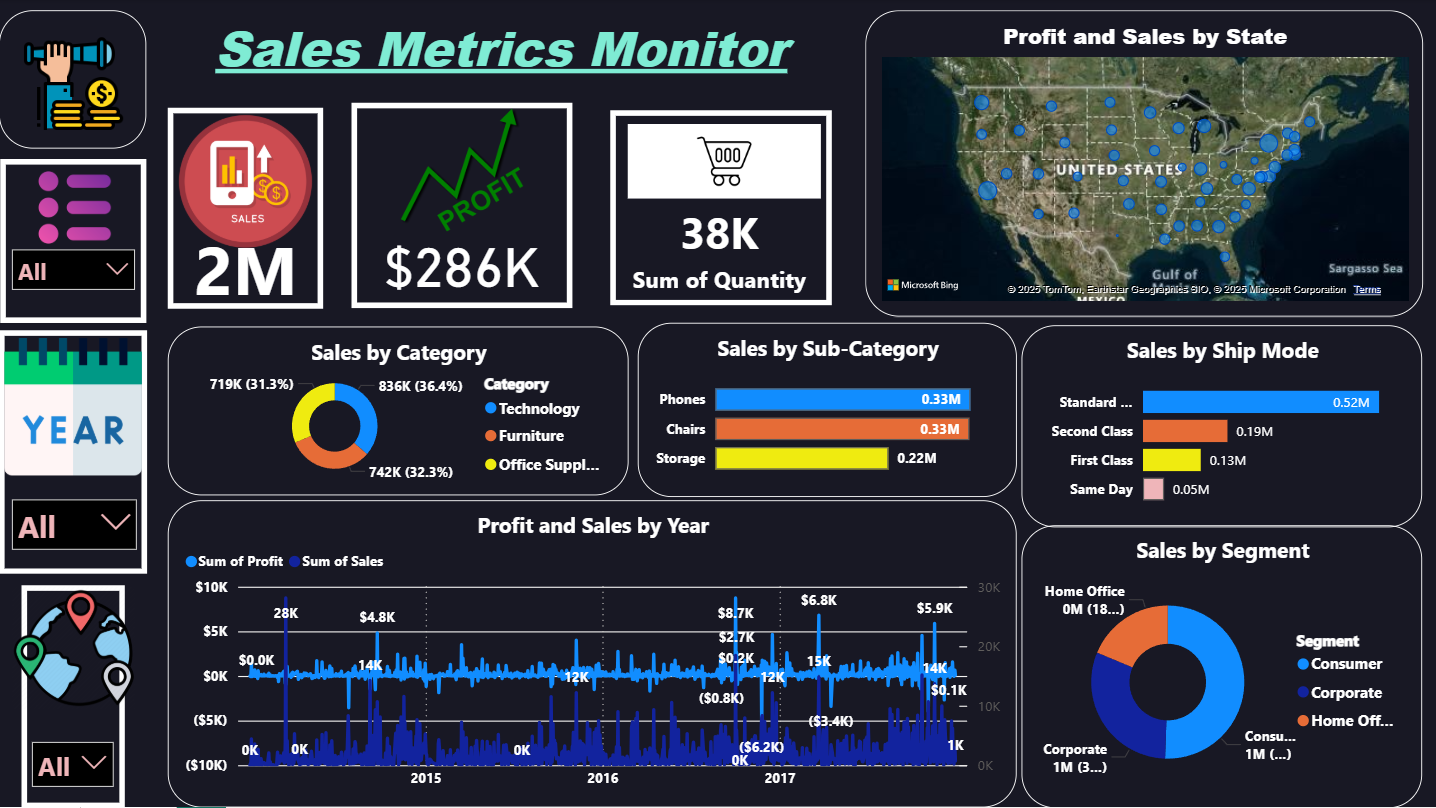

This screenshot's page, from the dashboard's own definition file:
{"tool":"powerbi","page":{"name":"Page 1","canvas":[1280,720],"ordinal":0},"visuals":[{"type":"textbox","box":[132.7,7.2,629.8,79.6],"z":0},{"type":"shape","box":[314.7,92.9,196.7,182.9],"z":0,"group":"g5"},{"type":"shape","box":[150,96.7,138.4,179],"z":0,"group":"g4"},{"type":"shape","box":[544.5,98.8,197.3,173.9],"z":0,"group":"g6"},{"type":"shape","box":[1.4,143.2,130.1,146],"z":0,"group":"g1"},{"type":"shape","box":[0,295.7,131.9,217.1],"z":0,"group":"g2"},{"type":"shape","box":[20.4,521.5,92.1,198.6],"z":0,"group":"g3"},{"type":"image","box":[150,87.1,138.4,151.7],"z":1000,"group":"g4"},{"type":"image","box":[314.7,92.9,196.7,119.2],"z":1000,"group":"g5"},{"type":"card","fields":{"Values":["Sum(Orders.Quantity)"]},"box":[543.5,166.2,197.1,108.2],"z":1000,"group":"g6"},{"type":"slicer","fields":{"Values":["Orders.Category"]},"box":[1.4,213.1,130.1,76.1],"z":1000,"group":"g1"},{"type":"donutChart","title":"Sales by Category","fields":{"Category":["Orders.Category"],"Y":["Sum(Orders.Sales)"]},"box":[150,291.2,410,150],"z":1000},{"type":"slicer","fields":{"Values":["Orders.Order Date.Variation.Date Hierarchy.Year"]},"box":[1,435.7,131.9,78.6],"z":1000,"group":"g2"},{"type":"image","box":[0,518.6,132.9,118.6],"z":1000,"group":"g3"},{"type":"image","box":[560.3,111.3,171.6,66.2],"z":2000,"group":"g6"},{"type":"image","box":[2.3,132.9,129.7,106.8],"z":2000,"group":"g1"},{"type":"card","fields":{"Values":["Sum(Orders.Profit)"]},"box":[314.3,194.5,196.7,79],"z":2000,"group":"g5"},{"type":"card","fields":{"Values":["Sum(Orders.Sales)"]},"box":[151.1,203.1,137.5,69.7],"z":2000,"group":"g4"},{"type":"image","box":[0,288.6,131.9,150],"z":2000,"group":"g2"},{"type":"clusteredBarChart","title":"Sales by Sub-Category","fields":{"Y":["Sum(Orders.Sales)"],"Category":["Orders.Sub-Category"]},"box":[568.8,288.8,337.5,155],"z":2000},{"type":"slicer","fields":{"Values":["Orders.Region"]},"box":[19.4,651.5,93.1,68.6],"z":2000,"group":"g3"},{"type":"clusteredBarChart","title":"Sales by Ship Mode","fields":{"Y":["Sum(Orders.Sales)"],"Category":["Orders.Ship Mode"]},"box":[910.9,290.8,357.1,179.8],"z":3000},{"type":"map","title":"Profit and Sales by State","fields":{"Category":["Orders.State"],"Size":["Sum(Orders.Profit)"]},"box":[770.9,9.7,497.1,272.7],"z":4000},{"type":"donutChart","title":"Sales by Segment","fields":{"Y":["Sum(Orders.Sales)"],"Category":["Orders.Segment"]},"box":[910.9,468.1,357.1,252.1],"z":5000},{"type":"image","box":[0,9.7,131.5,123.1],"z":6000},{"type":"group","id":"g1","title":"category","box":[1.4,132.9,130.6,156.3],"z":7000},{"type":"group","id":"g2","title":"year","box":[0,288.6,132.9,225.7],"z":8000},{"type":"group","id":"g3","title":"region","box":[0,518.6,132.9,201.4],"z":9000},{"type":"group","id":"g4","title":"sales","box":[150,87.1,138.6,188.6],"z":10000},{"type":"group","id":"g5","title":"profit","box":[314.3,92.9,197.1,182.9],"z":11000},{"type":"group","id":"g6","title":"quantity","box":[543.5,98.8,198.3,175.6],"z":12000},{"type":"lineChart","title":"Profit and Sales by Year","fields":{"Y":["Sum(Orders.Profit)"],"Y2":["Sum(Orders.Sales)"],"Category":["Orders.Order Date.Variation.Date Hierarchy.Year","Orders.Order Date.Variation.Date Hierarchy.Quarter","Orders.Order Date.Variation.Date Hierarchy.Month","Orders.Order Date.Variation.Date Hierarchy.Day"]},"box":[150,446.2,756.2,273.8],"z":13000}]}

Visuals, with their boxes in screenshot pixels (x1, y1, x2, y2), scaled from the page's 1280x720 canvas onto the 1436x808 screenshot:
textbox: [149,8,855,97]
shape: [353,104,574,310]
shape: [168,109,324,309]
shape: [611,111,832,306]
shape: [2,161,148,325]
shape: [0,332,148,575]
shape: [23,585,126,807]
image: [168,98,324,268]
image: [353,104,574,238]
card - Sum(Orders.Quantity): [610,187,831,308]
slicer - Orders.Category: [2,239,148,325]
"Sales by Category" donutChart: [168,327,628,495]
slicer - Orders.Order Date.Variation.Date Hierarchy.Year: [1,489,149,577]
image: [0,582,149,715]
image: [629,125,821,199]
image: [3,149,148,269]
card - Sum(Orders.Profit): [353,218,573,307]
card - Sum(Orders.Sales): [170,228,324,306]
image: [0,324,148,492]
"Sales by Sub-Category" clusteredBarChart: [638,324,1017,498]
slicer - Orders.Region: [22,731,126,807]
"Sales by Ship Mode" clusteredBarChart: [1022,326,1423,528]
"Profit and Sales by State" map: [865,11,1423,317]
"Sales by Segment" donutChart: [1022,525,1423,807]
image: [0,11,148,149]
"category" group: [2,149,148,325]
"year" group: [0,324,149,577]
"region" group: [0,582,149,807]
"sales" group: [168,98,324,309]
"profit" group: [353,104,574,310]
"quantity" group: [610,111,832,308]
"Profit and Sales by Year" lineChart: [168,501,1017,807]
